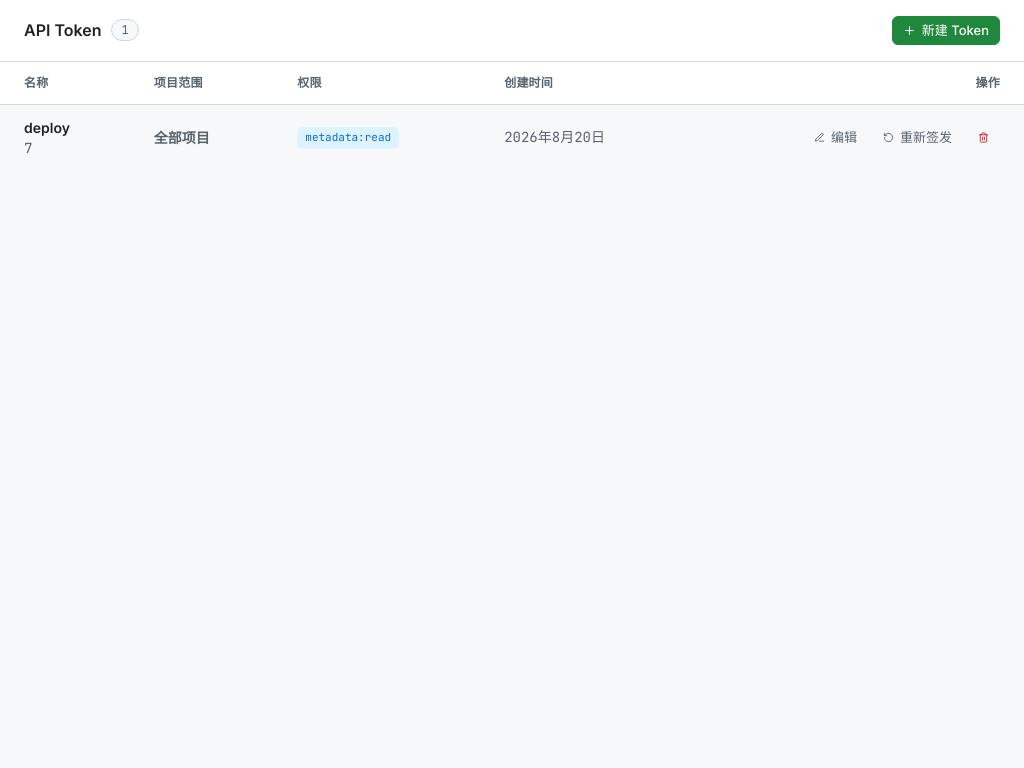
Test: TokensPage › only the explicit Re-sign button issues a new JWT
The width and height of the screenshot is (1024, 768).
Click the button "重新签发" at (918,138), box 872,123 -> 963,152
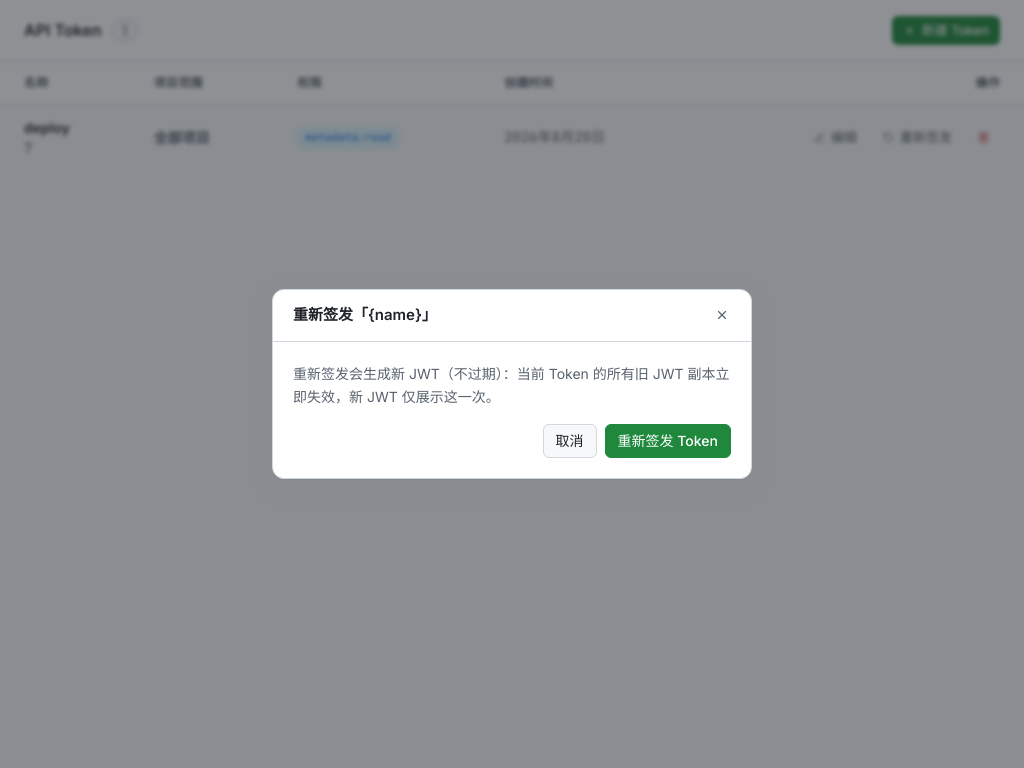
Now the text "重新签发会生成新 JWT（不过期）：当前 Token 的所有旧 JWT 副本立即失效，新 JWT 仅展示这一次。" is shown, box 293,362 -> 731,408
Click the button "重新签发 Token" at (668,441), box 605,424 -> 731,458
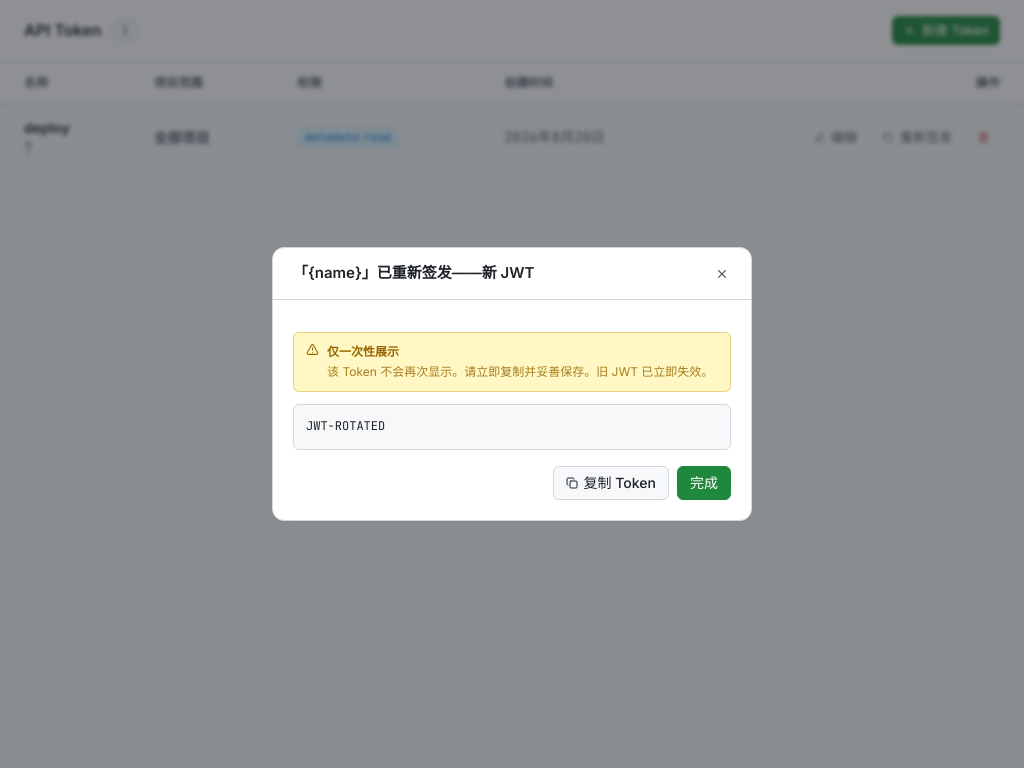
Now the text "JWT-ROTATED" is shown, box 306,418 -> 385,434
